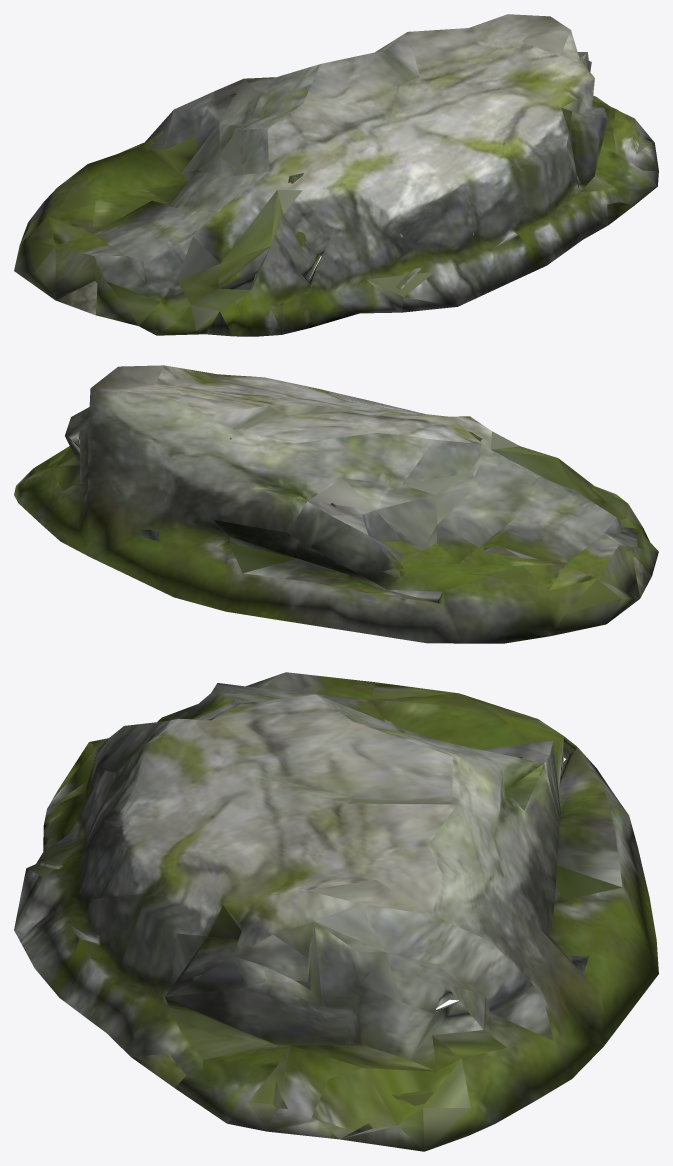
The model's file is fels-platte-hell.glb.
3 views of the same model, one above another, from view 1: azimuth 30°, elevation 25°; view 2: azimuth 150°, elevation 25°; view 3: azimuth 270°, elevation 25° (orthographic). The views are drawn at different scales.
Parts seen in each view (by area): view 1: Mesh_0; view 2: Mesh_0; view 3: Mesh_0.
Boxes of the visible parts, x1,y1,x2,y2 form: Mesh_0: (14,14,658,336); Mesh_0: (14,365,658,643); Mesh_0: (14,672,658,1151).
Bounding box in the file's own units: 1.99 × 0.4219 × 1.24.
Materials: 1 (1 with a texture image).
